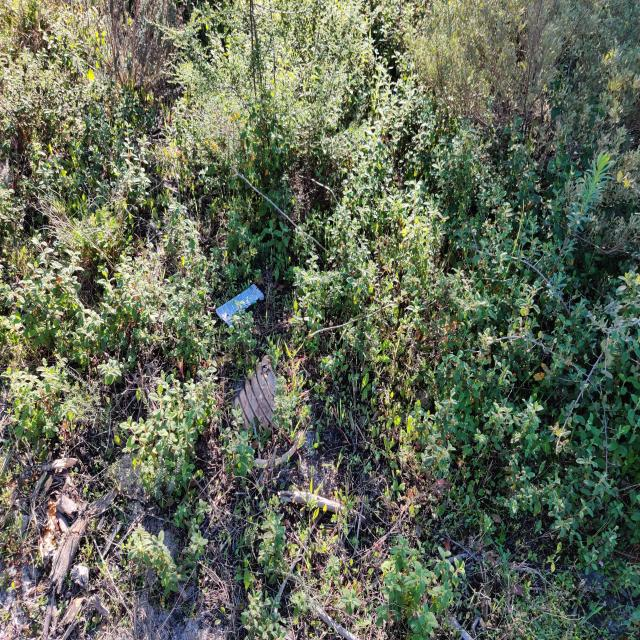litter: (216, 284, 264, 327)
